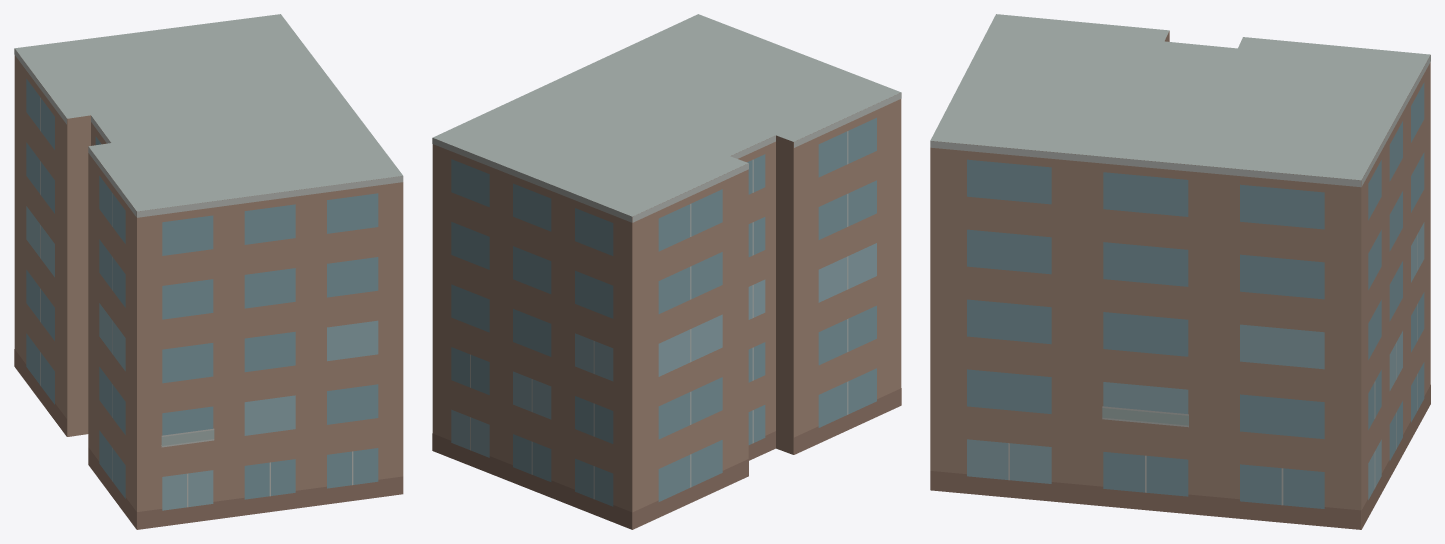
File: survey-upis-32652845.glb
The picture shows the model from 3 angles, left to right: view 1: azimuth 30°, elevation 25°; view 2: azimuth 150°, elevation 25°; view 3: azimuth 270°, elevation 25°; orthographic projection. The views are drawn at different scales.
Parts seen in each view (by area): view 1: survey-upis-32652845.tmp; view 2: survey-upis-32652845.tmp; view 3: survey-upis-32652845.tmp.
Boxes of the visible parts, bbox=[...] form: survey-upis-32652845.tmp: bbox=[14, 14, 403, 529]; survey-upis-32652845.tmp: bbox=[432, 14, 901, 529]; survey-upis-32652845.tmp: bbox=[930, 14, 1430, 529].
Bounding box in the file's own units: 12.56 × 12.3 × 15.97.
